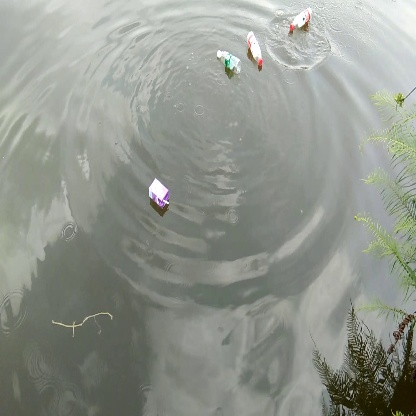bottle: (285, 7, 315, 36), (246, 30, 268, 67), (214, 48, 244, 75)
milk-box: (144, 178, 172, 211)
